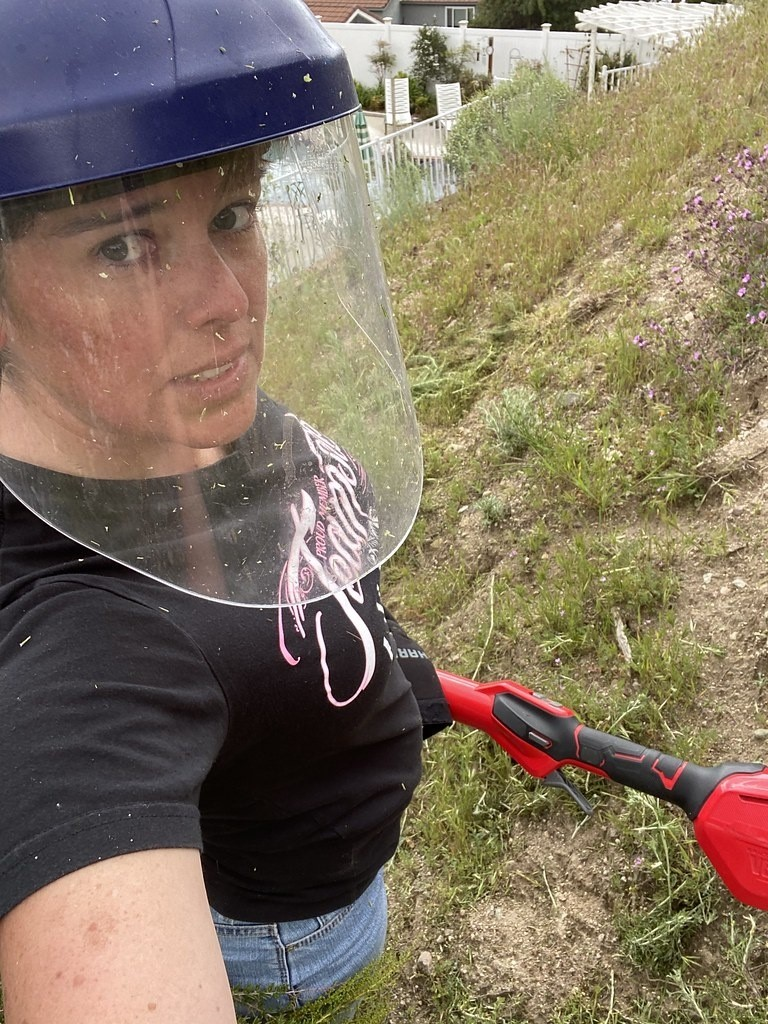face_no_mask: (13, 102, 272, 457)
